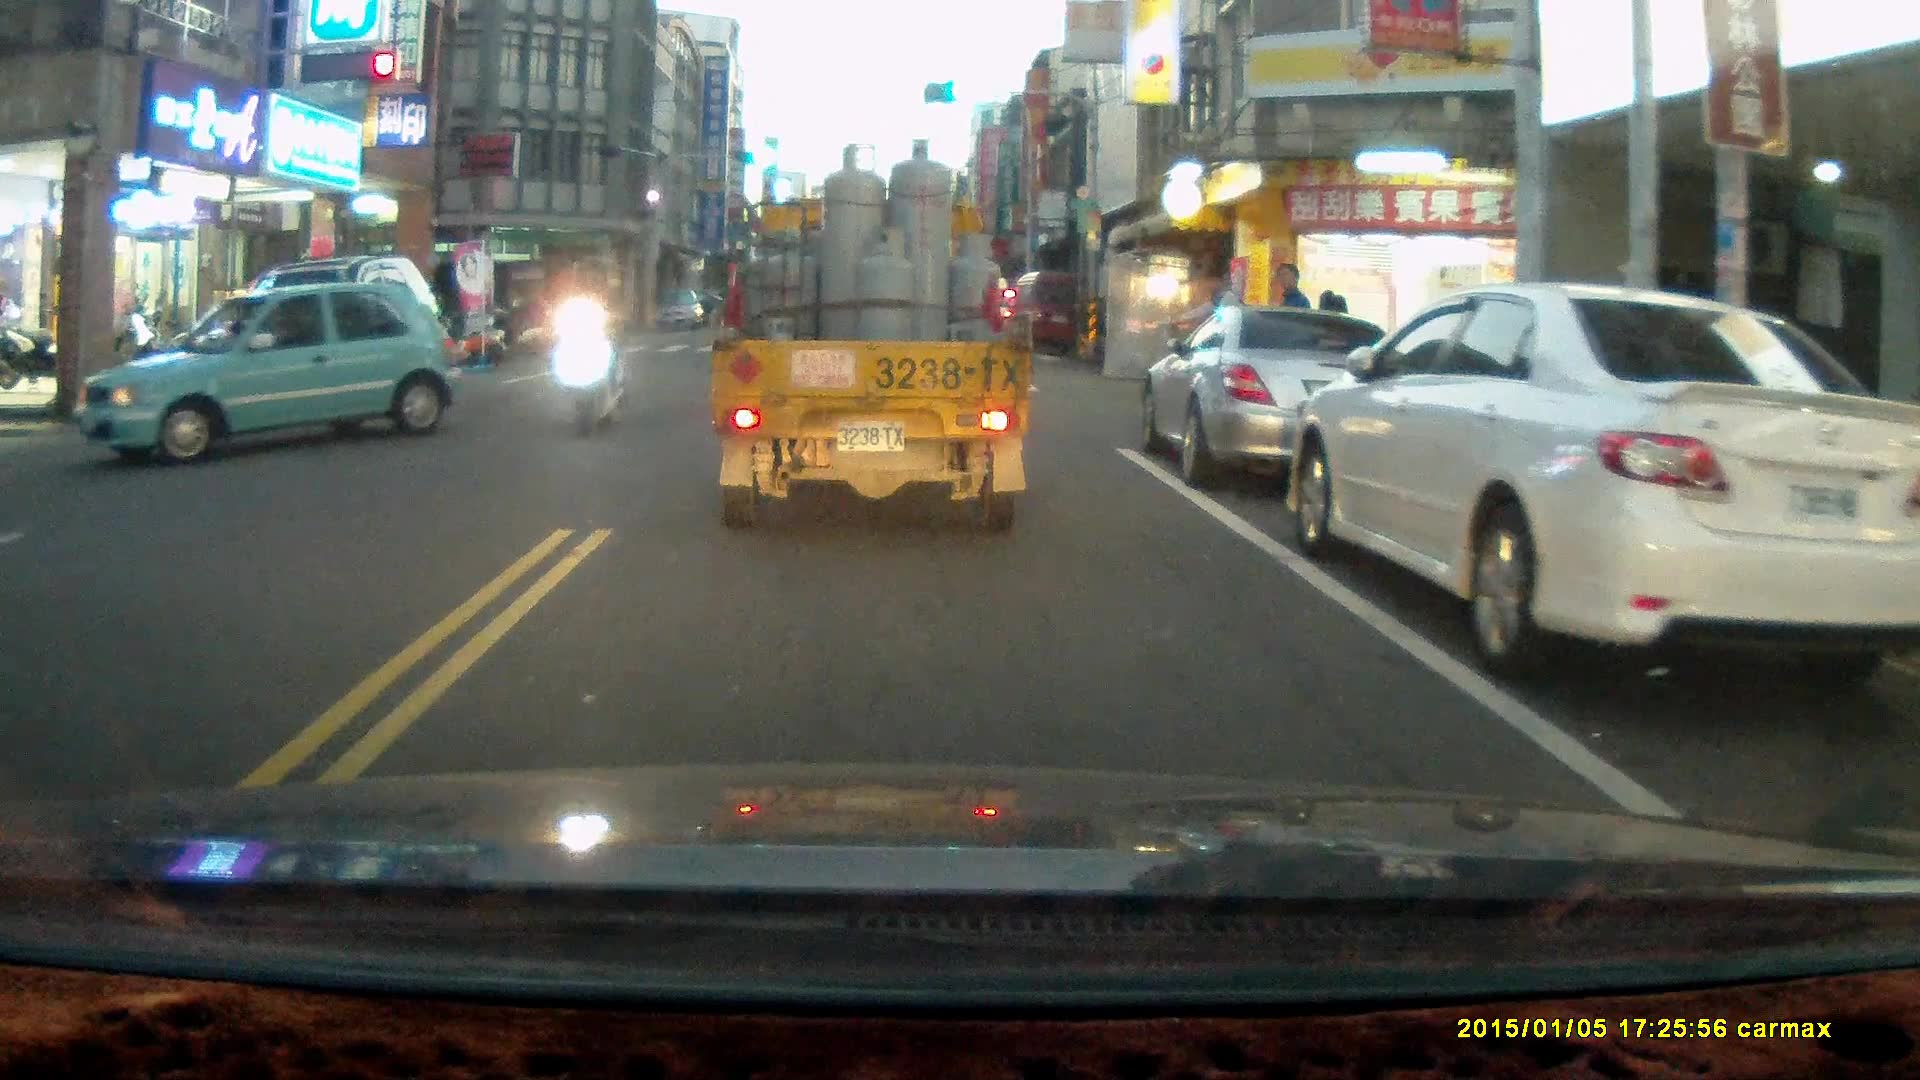rider: (1145, 263, 1295, 420), (561, 255, 631, 437)
vehicle: (1284, 282, 1920, 683), (709, 139, 1037, 534), (76, 283, 459, 466), (1138, 302, 1417, 486), (1008, 268, 1094, 358), (653, 289, 708, 335)
